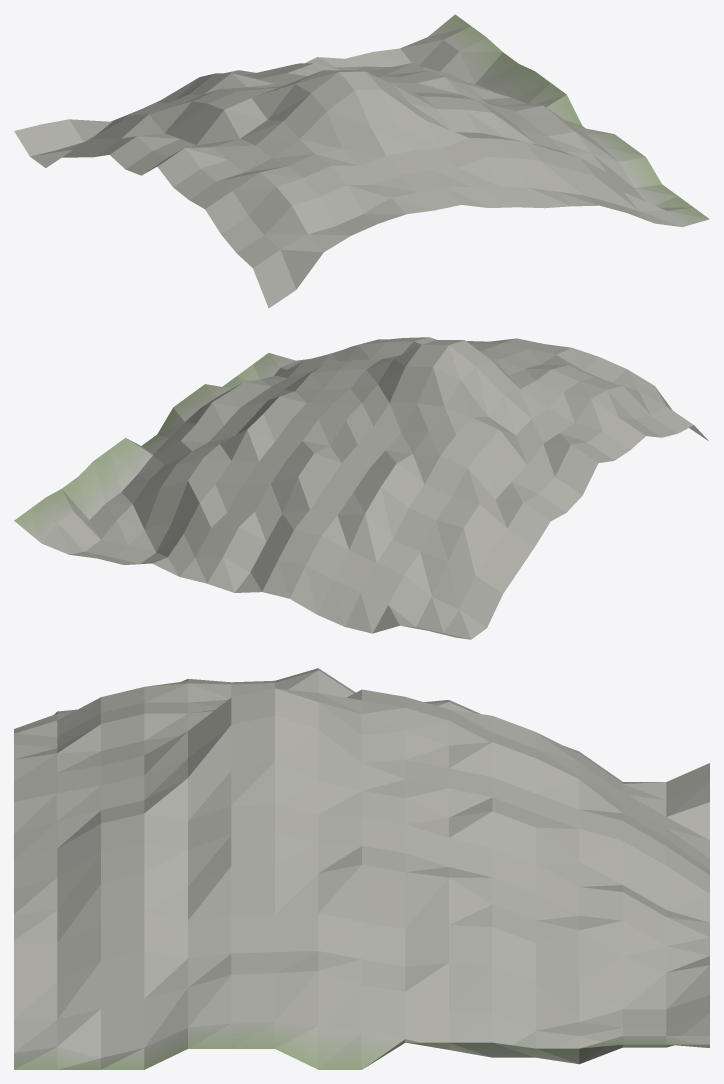
3 renders of one model, top to bottom at view 1: azimuth 30°, elevation 25°; view 2: azimuth 150°, elevation 25°; view 3: azimuth 270°, elevation 25°, orthographic. The views are drawn at different scales.
Size of the model in its own units: 32 by 10.76 by 32.
